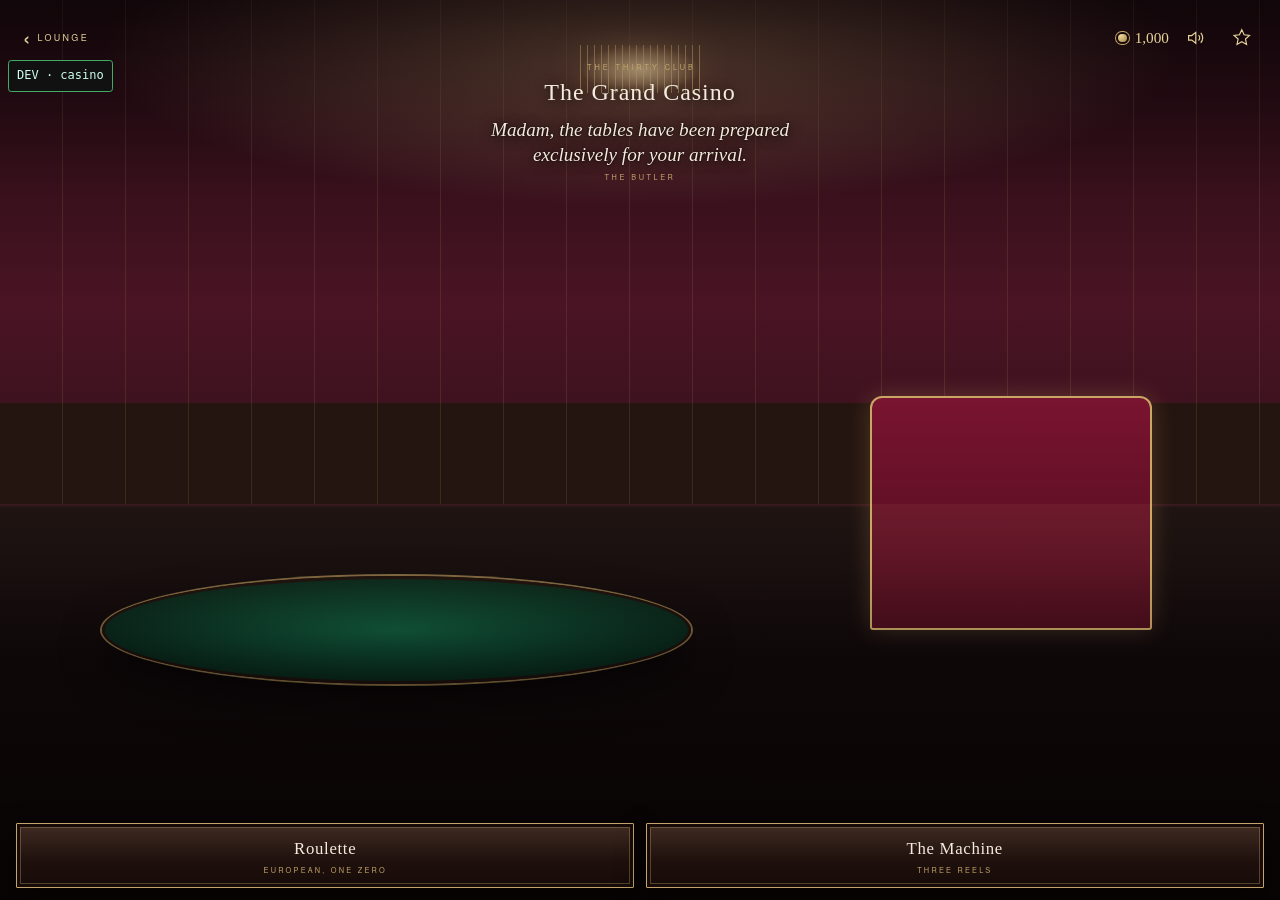
Test: roulette › places, undoes and clears chips
Click the button "Roulette European, one zero" at (325, 856), box [16,823,634,888]
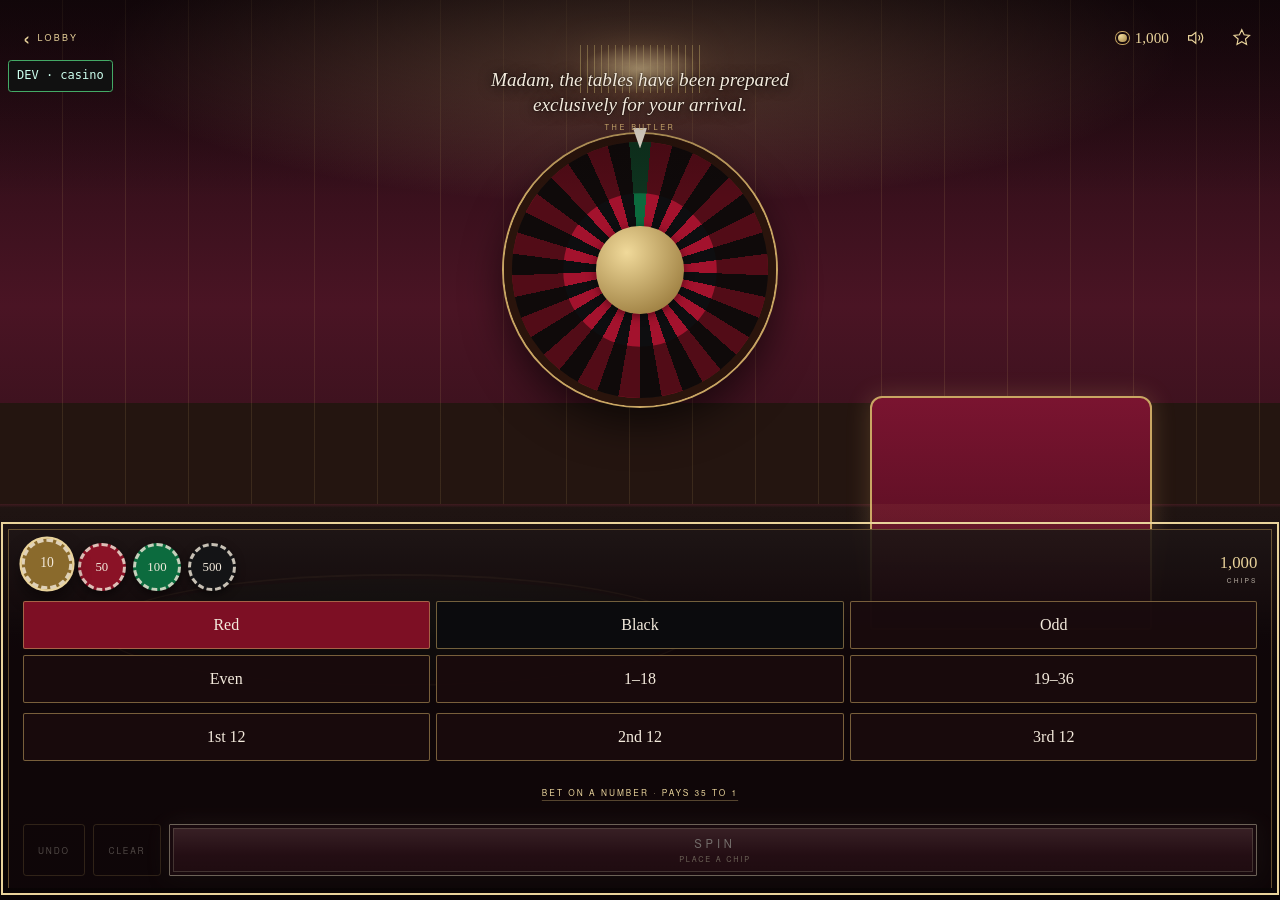
Click the button named "50 chip" at (102, 567), box [78,543,126,591]
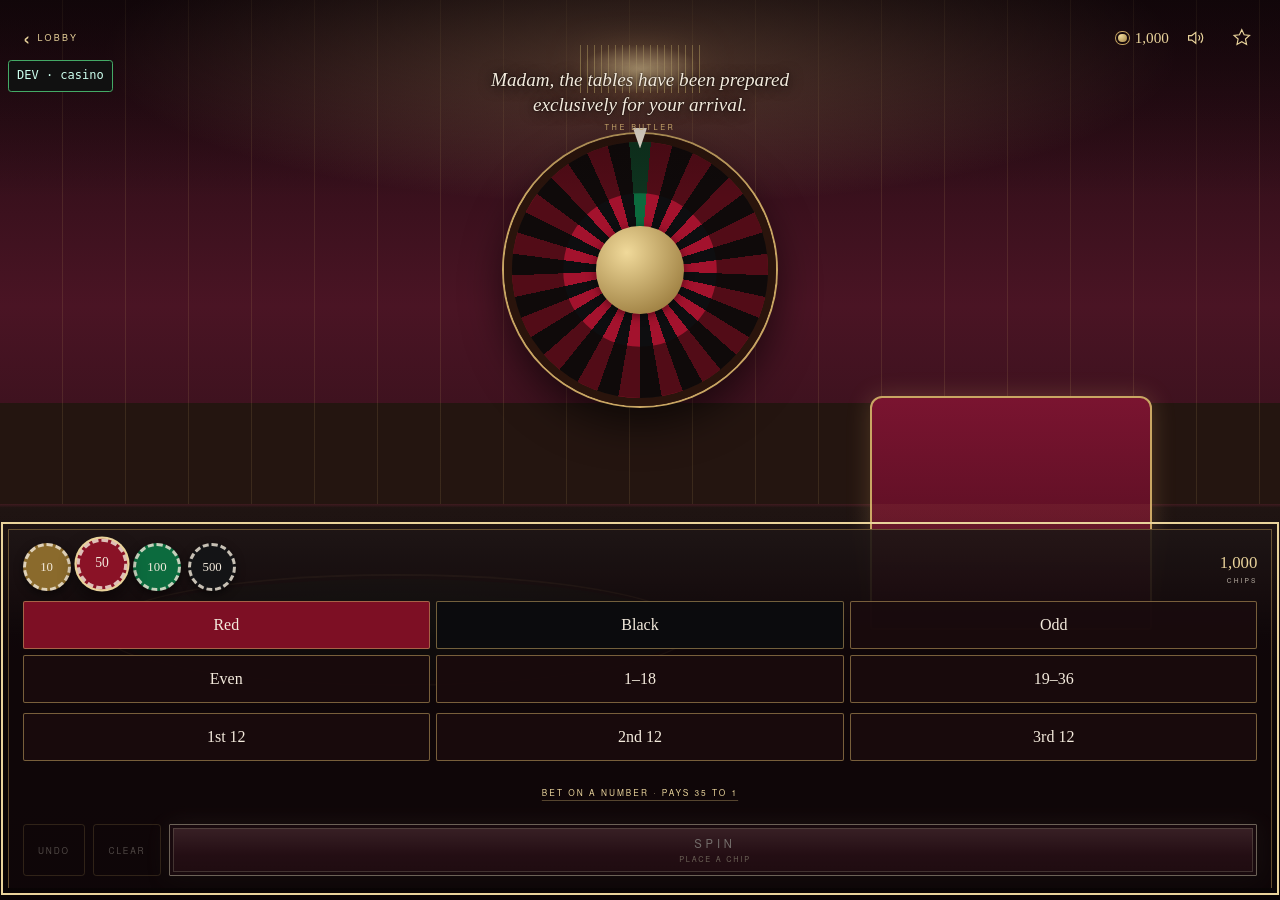
Click the button "Black" at (640, 625), box [436,601,844,649]
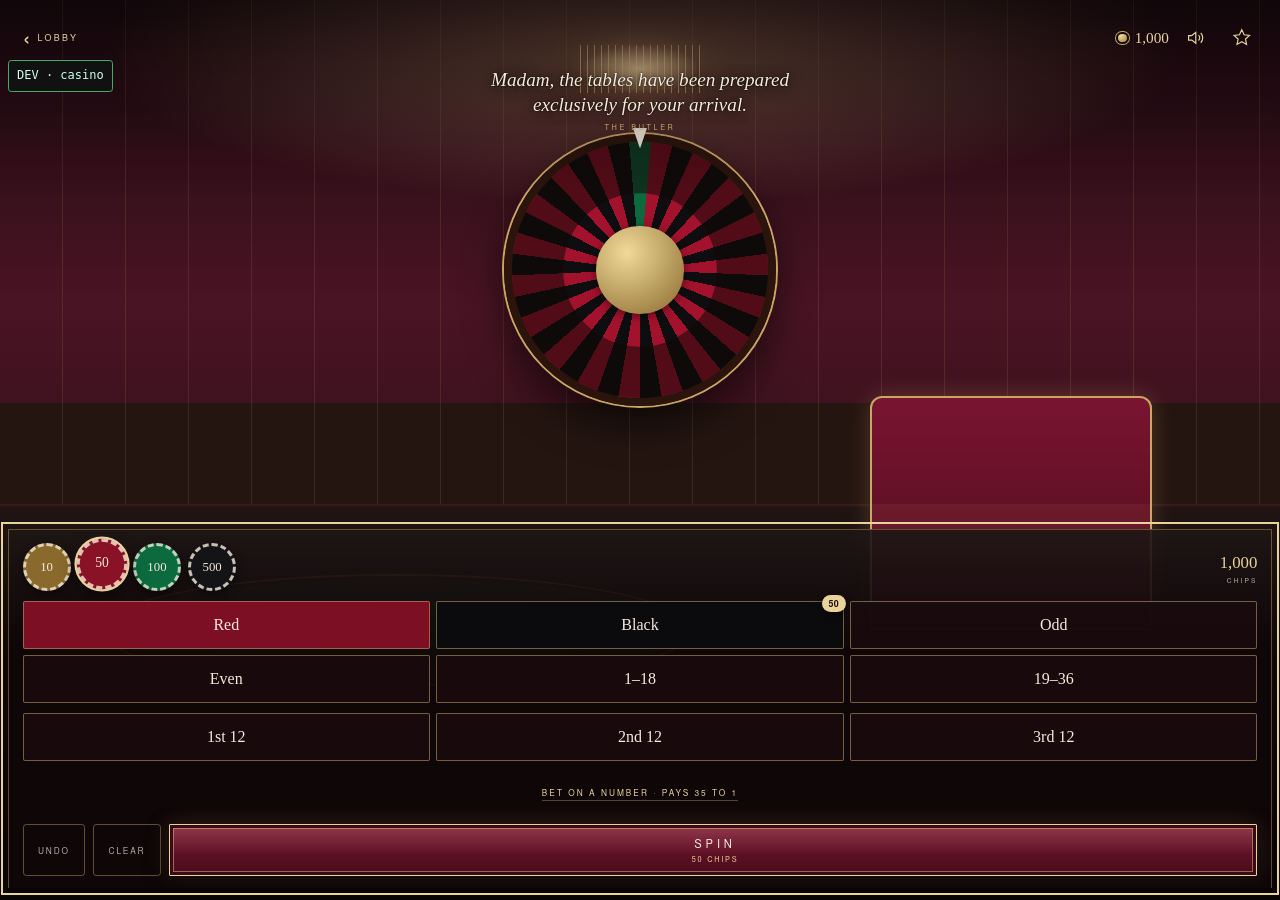
Click the button "Odd" at (1054, 625), box [850,601,1257,649]
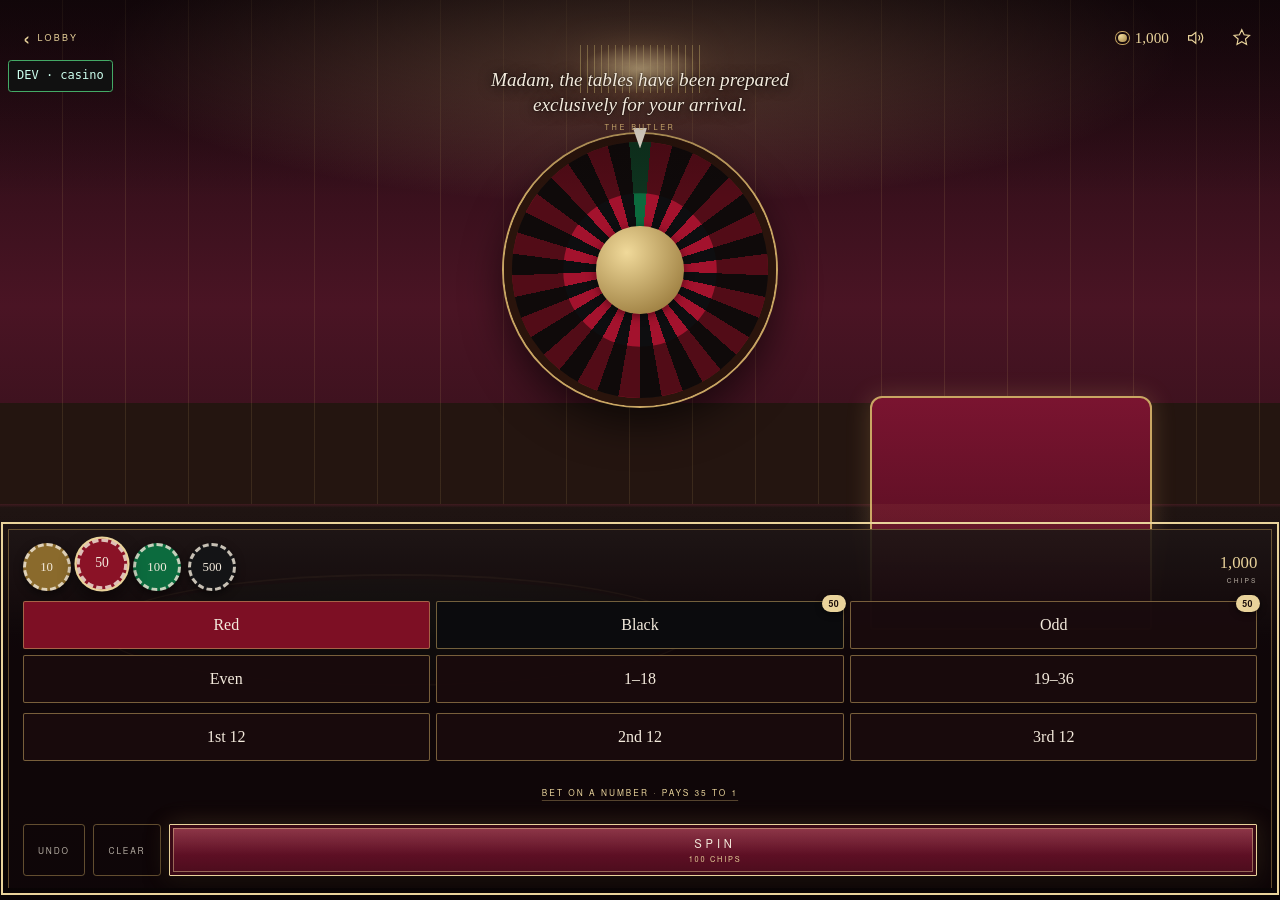
Now the button "Spin 100 chips" is shown, box [169,824,1257,876]
Click the button "Undo" at (54, 850), box [23,824,85,876]
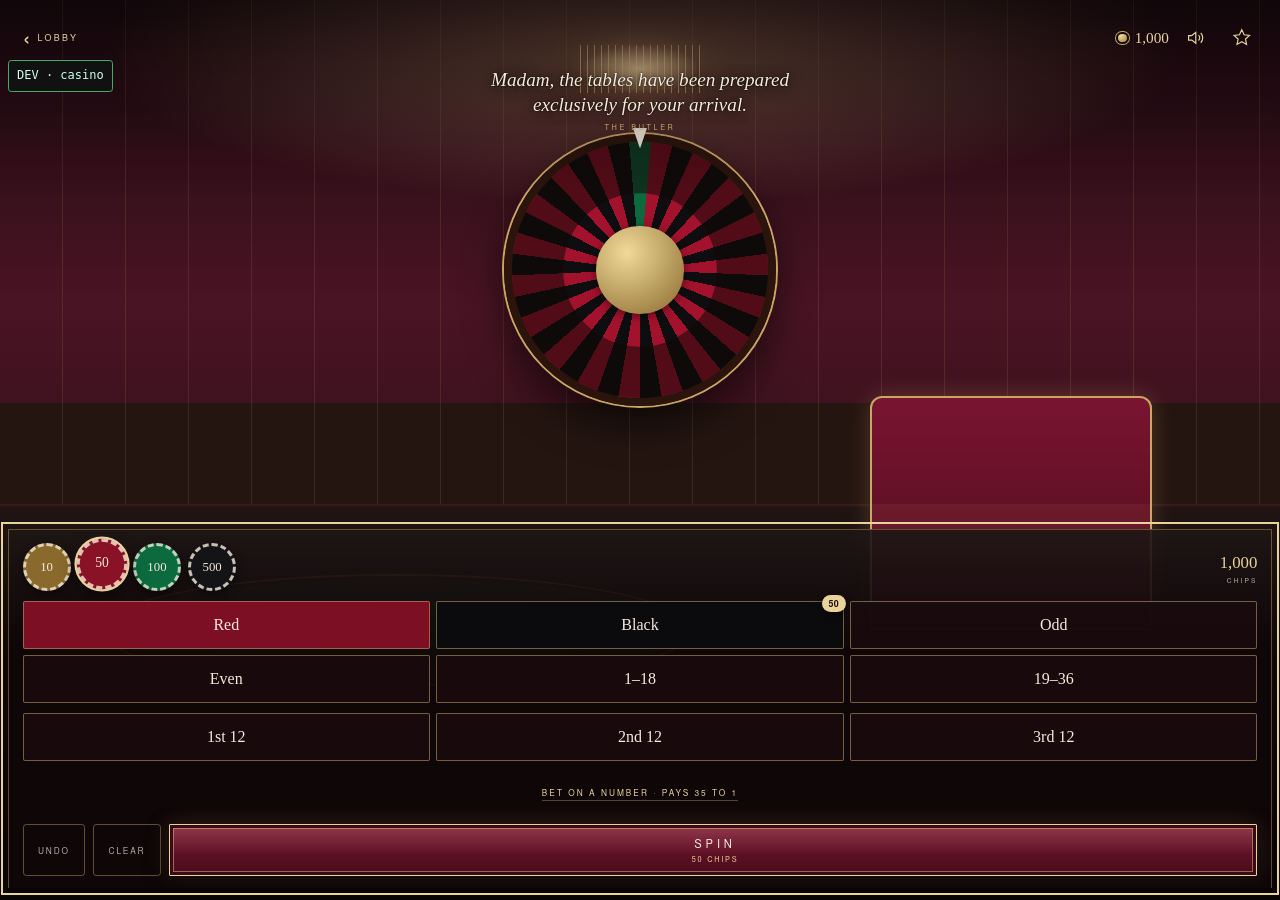
Now the button "Spin 50 chips" is shown, box [169,824,1257,876]
Click the button "Clear" at (127, 850), box [93,824,161,876]
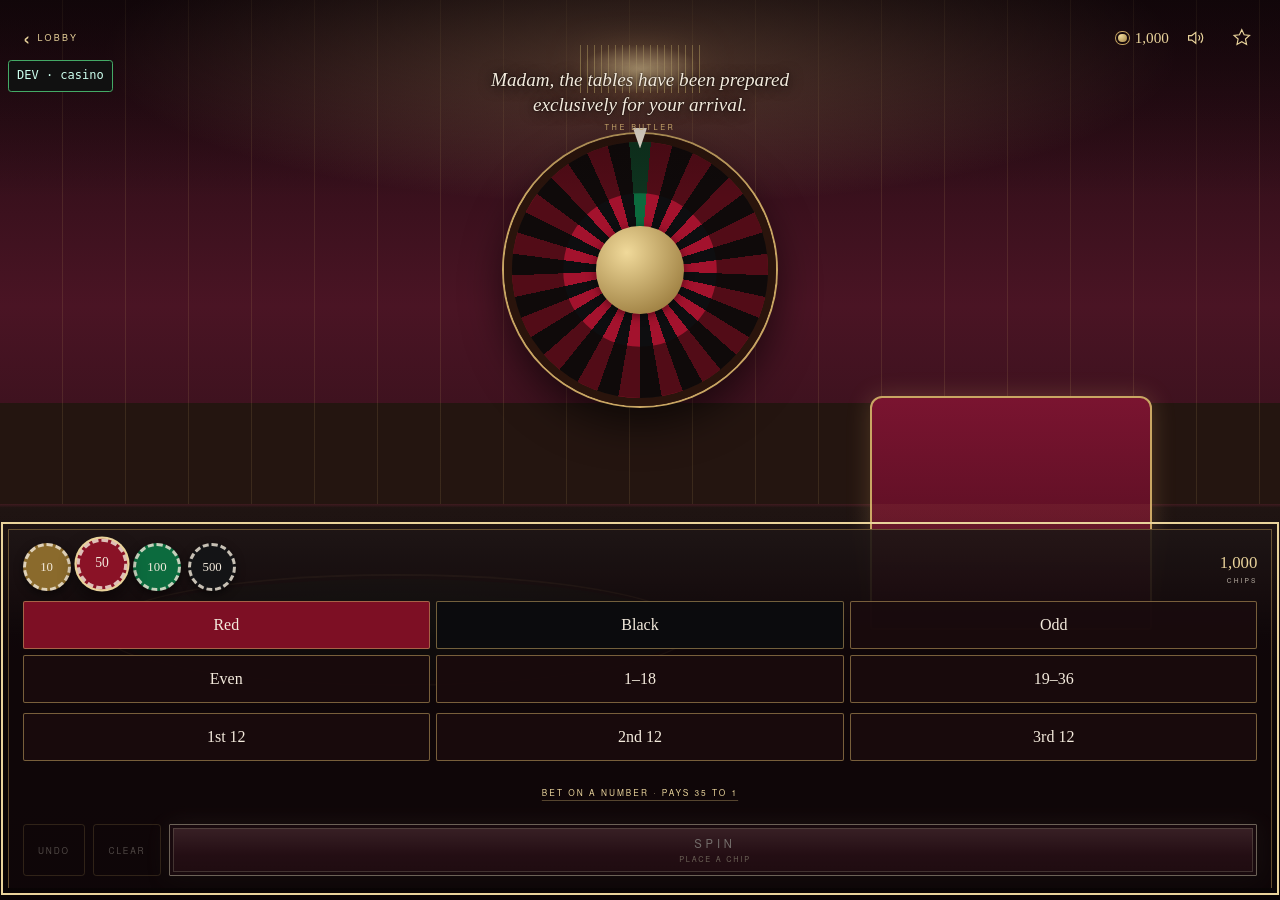
Now the button "Spin place a chip" is disabled, box [169,824,1257,876]
